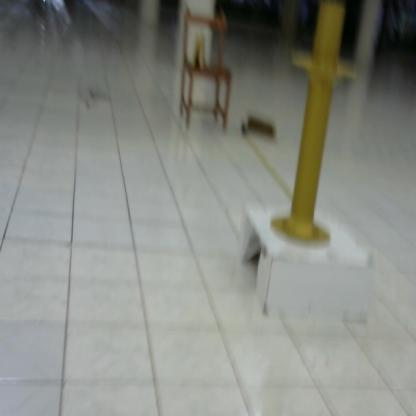pole: (269, 1, 368, 257)
